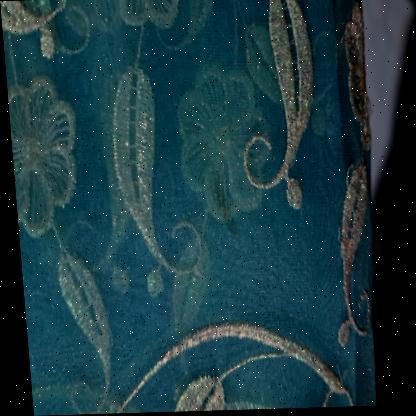spot: (200, 180, 245, 249)
